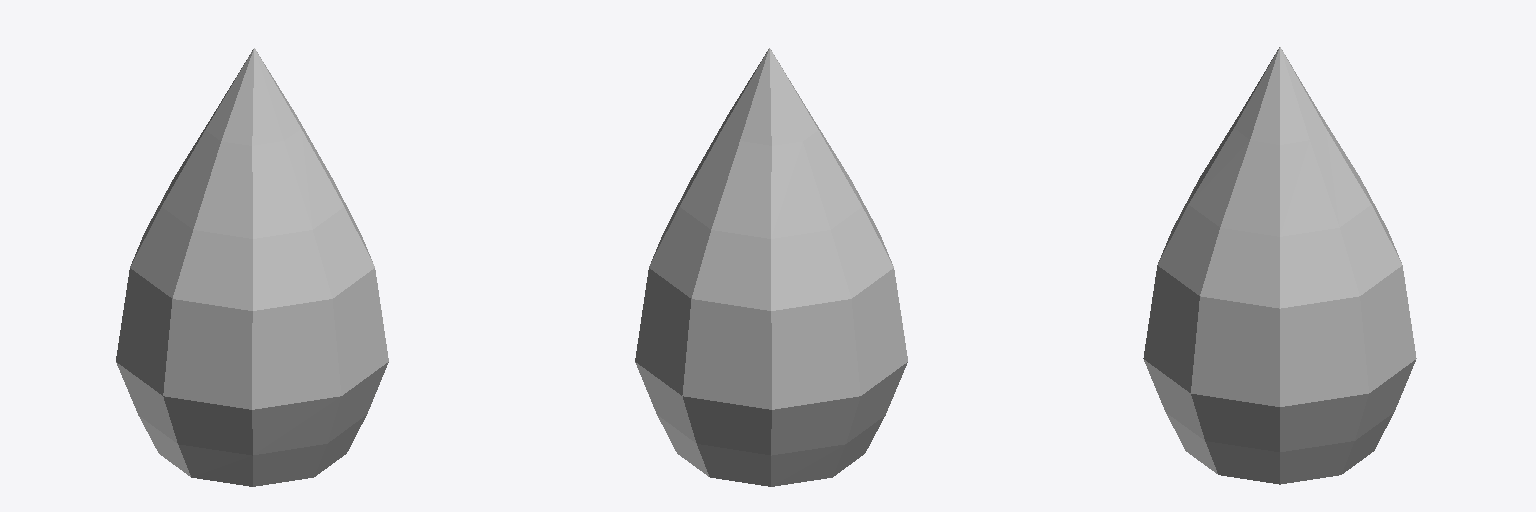
File: cepha_petit.obj
3 renders of one model, left to right at view 1: azimuth 30°, elevation 25°; view 2: azimuth 150°, elevation 25°; view 3: azimuth 270°, elevation 25°, orthographic.
Visible parts, largest first — view 1: A_Cepha:Cepha1; view 2: A_Cepha:Cepha1; view 3: A_Cepha:Cepha1.
Part boxes in pixels (x1,y1,x2,y2): A_Cepha:Cepha1: (116, 48, 388, 486); A_Cepha:Cepha1: (635, 48, 907, 486); A_Cepha:Cepha1: (1143, 47, 1416, 484).
Bounding box in the file's own units: 4.59 × 7.86 × 4.66.